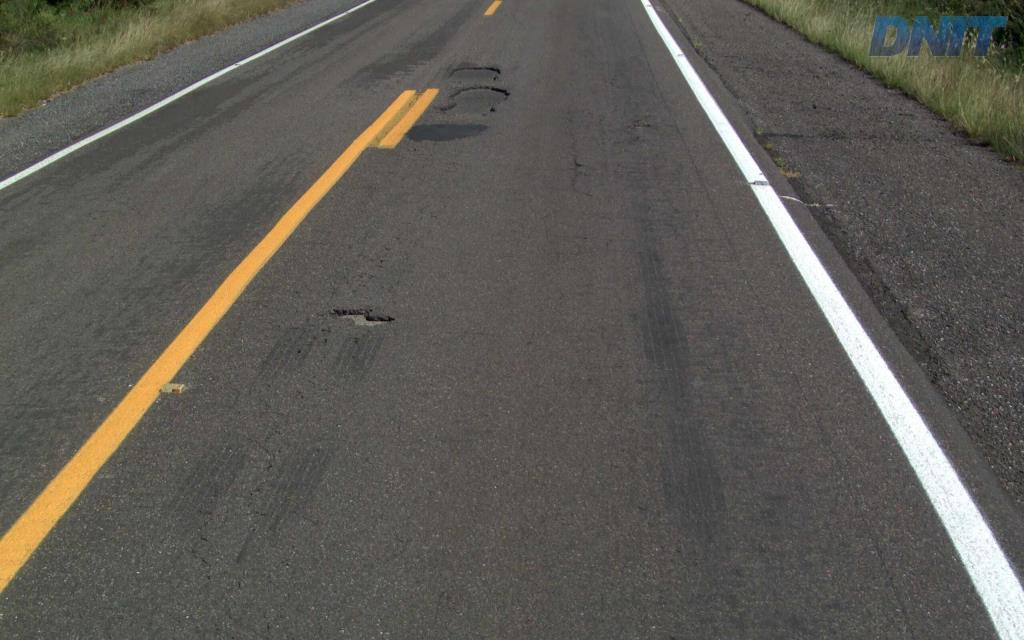pothole: (431, 61, 513, 120), (326, 298, 395, 328)
